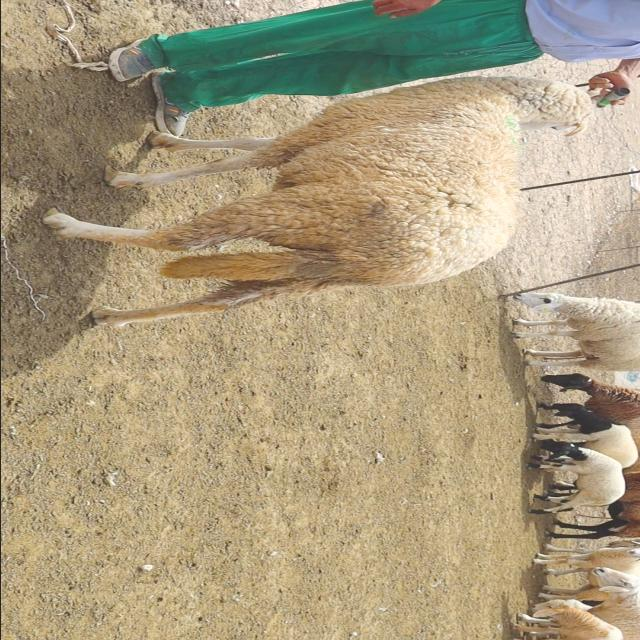Score_2: (42, 77, 593, 326)
